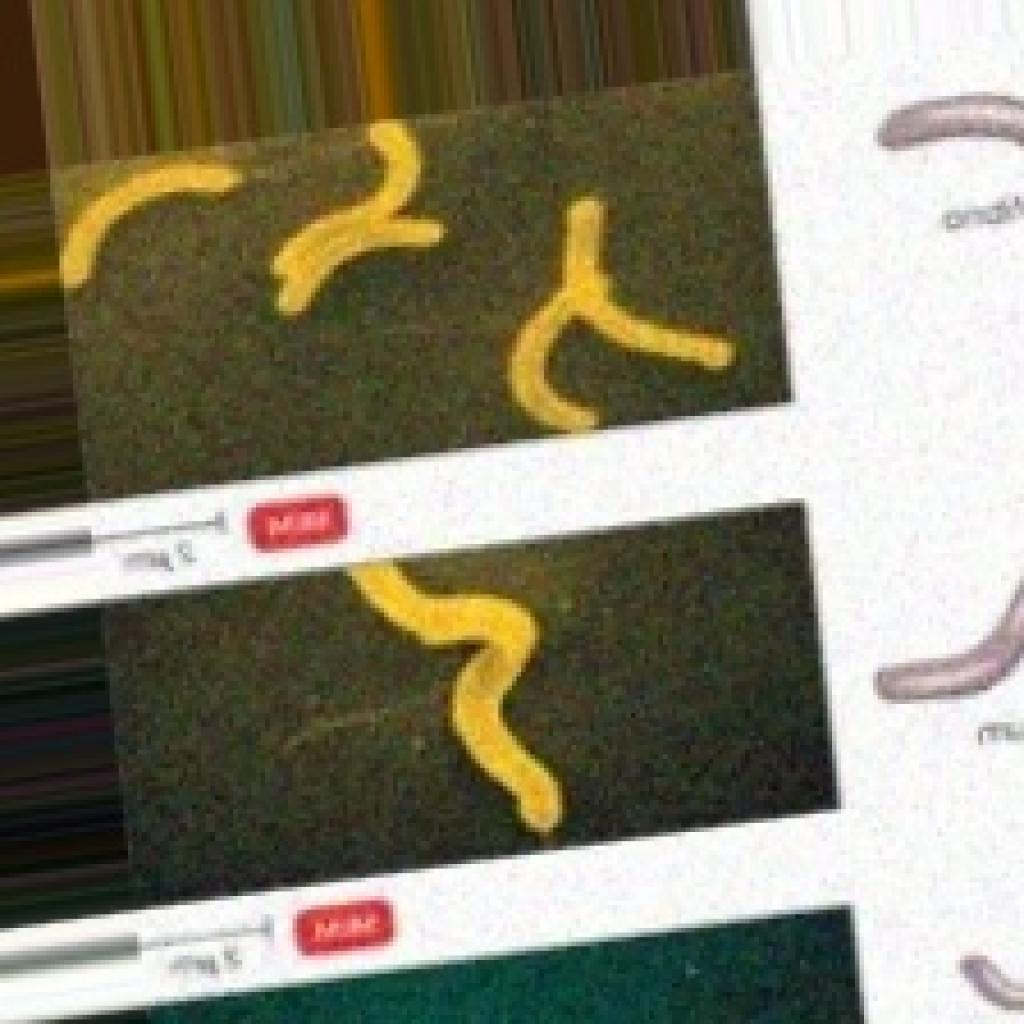Sprialbacteria: (0, 88, 783, 453)
